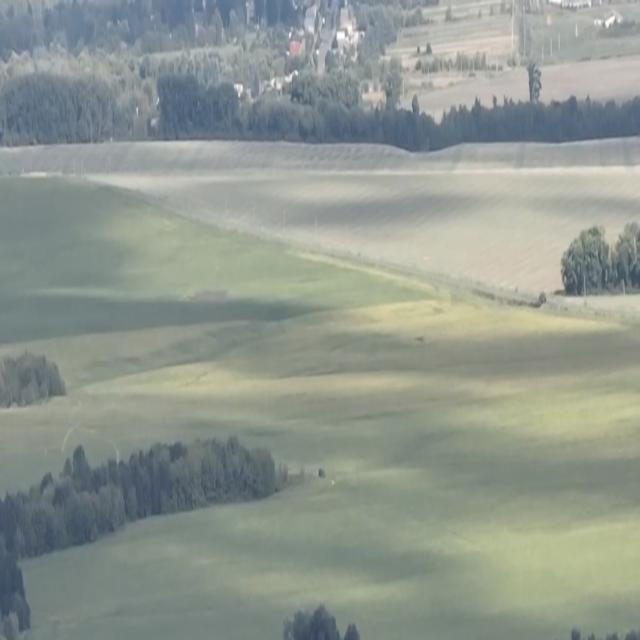vehicle: (318, 465, 326, 479), (539, 288, 546, 303)
